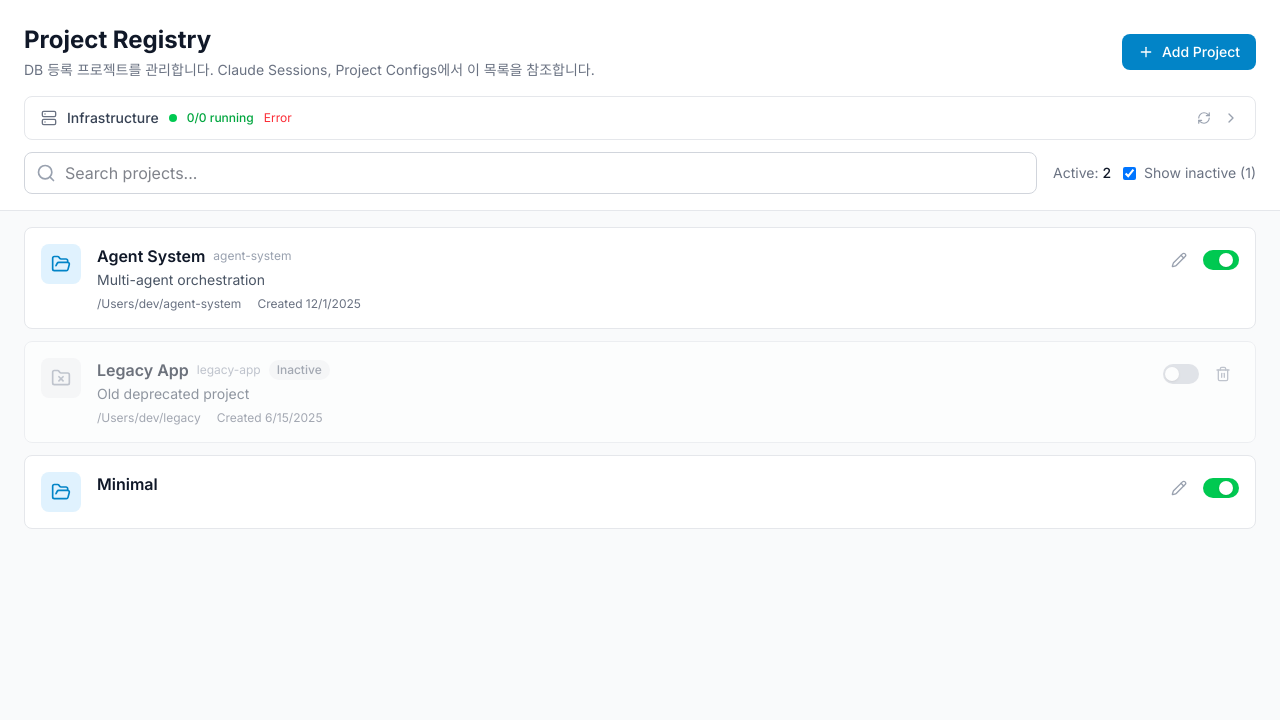
ProjectManagementPage › search filtering › filters by description
The width and height of the screenshot is (1280, 720).
In the field with placeholder "Search projects...": (531, 173) [24,152,1037,194], type "deprecated"
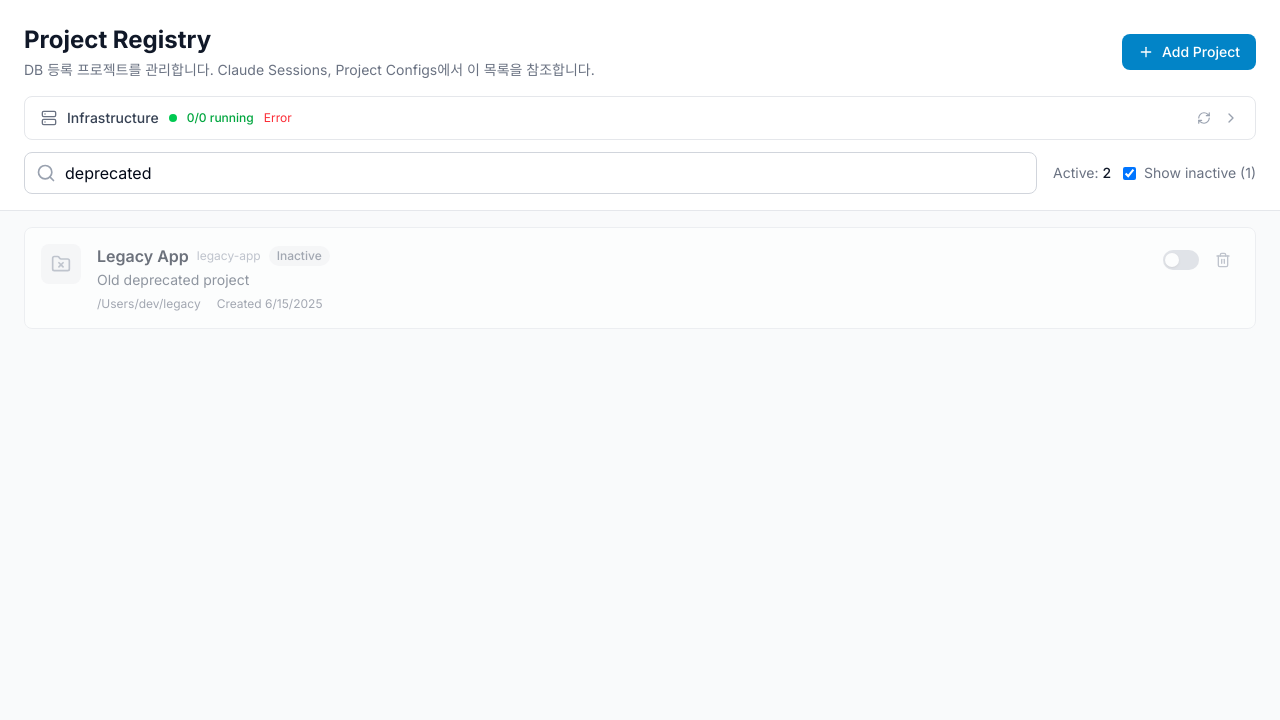
Expected: the heading "Legacy App" is shown, [97,244,189,268]
Expected: the heading "Agent System" is gone
